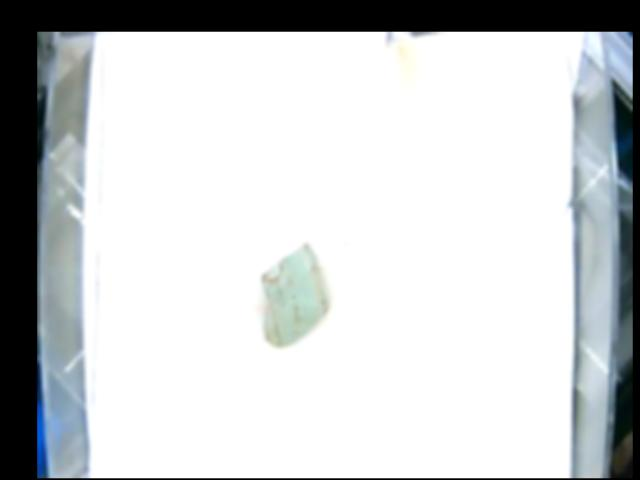China: (254, 243, 329, 348)
